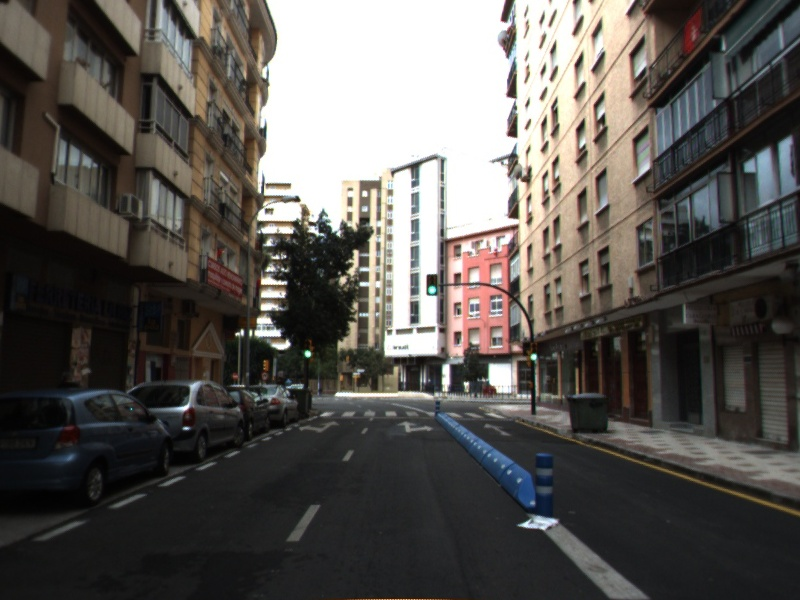STRAIGHT: (482, 422, 512, 437)
STRAIGHT_LEFT: (298, 419, 341, 434)
STRAIGHT_RIGHT: (395, 419, 435, 434)
